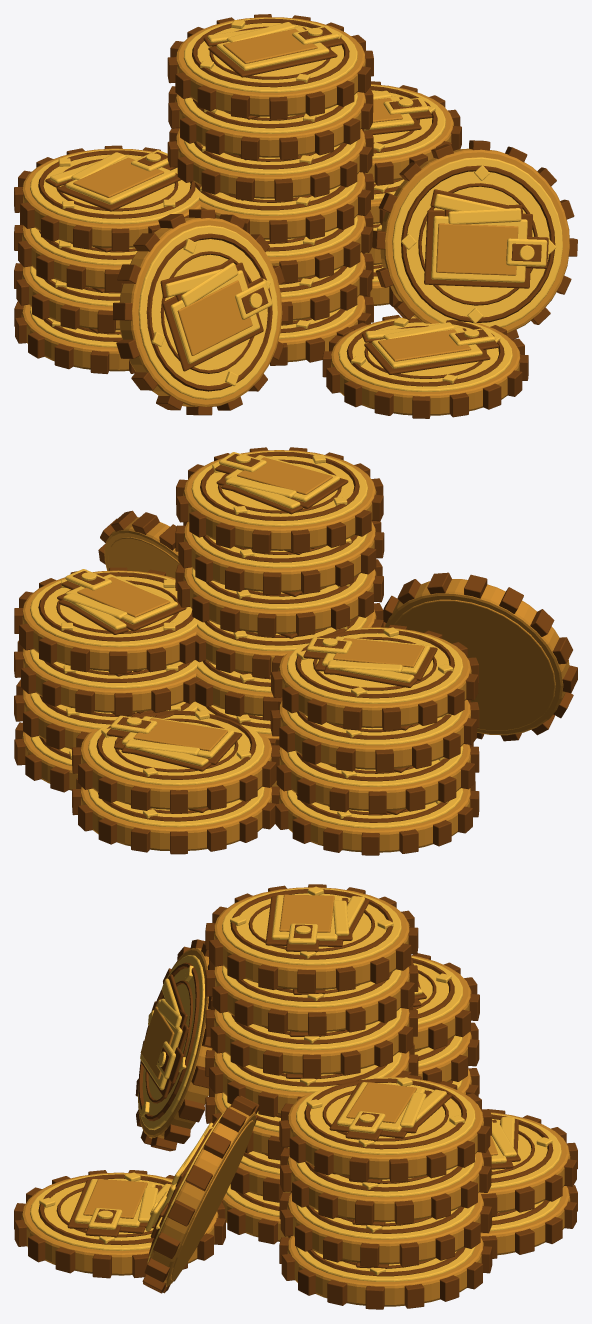
File: coinstack.glb
The picture shows the model from 3 angles, top to bottom: view 1: azimuth 30°, elevation 25°; view 2: azimuth 150°, elevation 25°; view 3: azimuth 270°, elevation 25°; orthographic projection. The views are drawn at different scales.
Visible parts, largest first — view 1: GoldCoinWallet_SharedMesh_V2_2 (×15), GoldCoinWallet_SharedMesh_V2_1 (×15), GoldCoinWallet_SharedMesh_V2 (×15); view 2: GoldCoinWallet_SharedMesh_V2_2 (×17), GoldCoinWallet_SharedMesh_V2 (×17), GoldCoinWallet_SharedMesh_V2_1 (×15); view 3: GoldCoinWallet_SharedMesh_V2_2 (×18), GoldCoinWallet_SharedMesh_V2 (×18), GoldCoinWallet_SharedMesh_V2_1 (×15).
Boxes of the visible parts, <box> form: GoldCoinWallet_SharedMesh_V2_2 (×15): <box>14,14,577,418</box>; GoldCoinWallet_SharedMesh_V2_1 (×15): <box>30,18,562,399</box>; GoldCoinWallet_SharedMesh_V2 (×15): <box>21,17,569,415</box>; GoldCoinWallet_SharedMesh_V2_2 (×17): <box>14,447,577,855</box>; GoldCoinWallet_SharedMesh_V2 (×17): <box>22,450,569,852</box>; GoldCoinWallet_SharedMesh_V2_1 (×15): <box>30,450,463,828</box>; GoldCoinWallet_SharedMesh_V2_2 (×18): <box>14,884,577,1309</box>; GoldCoinWallet_SharedMesh_V2 (×18): <box>21,887,570,1306</box>; GoldCoinWallet_SharedMesh_V2_1 (×15): <box>30,886,561,1281</box>.
Size of the model in its own units: 0.2228 by 0.1359 by 0.2292.
